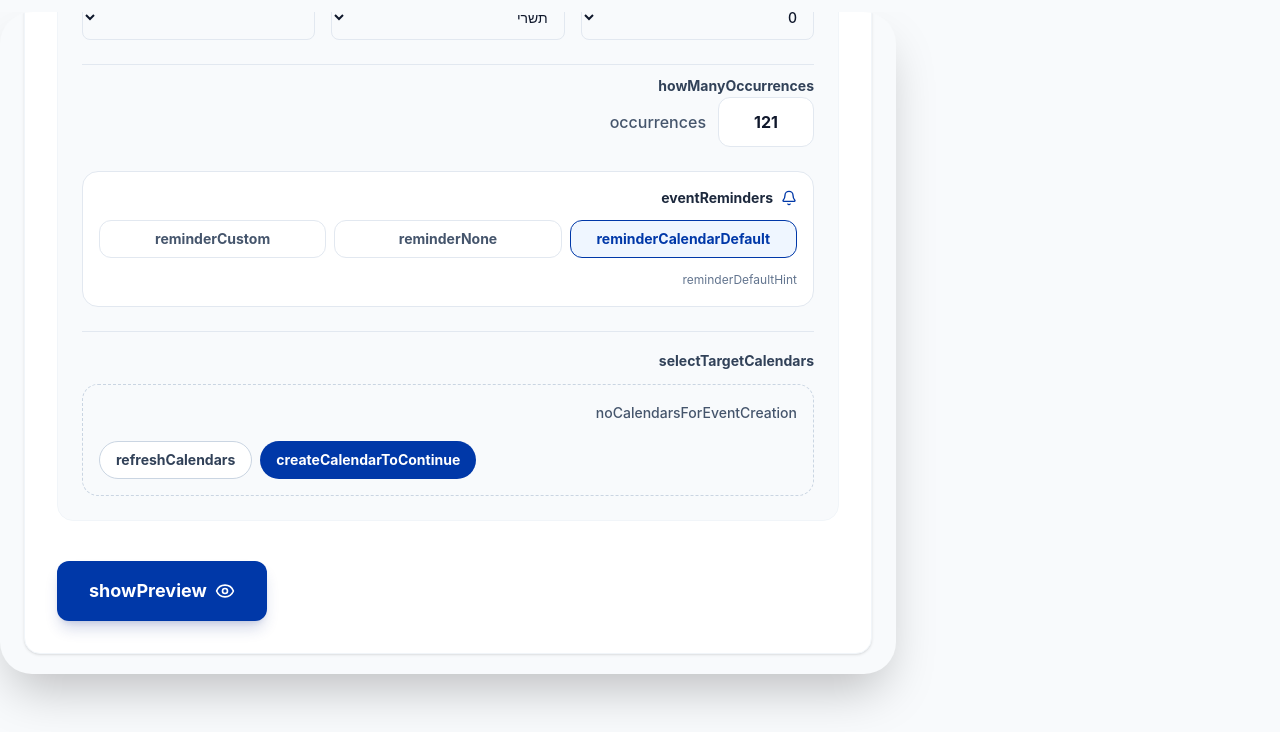
it: AddEvent Component › should mark the event title field invalid when preview is requested without a title
(page scrolled)
Click the button "showPreview". click: (162, 591)
box: top-left (57, 561), bottom-right (267, 621)
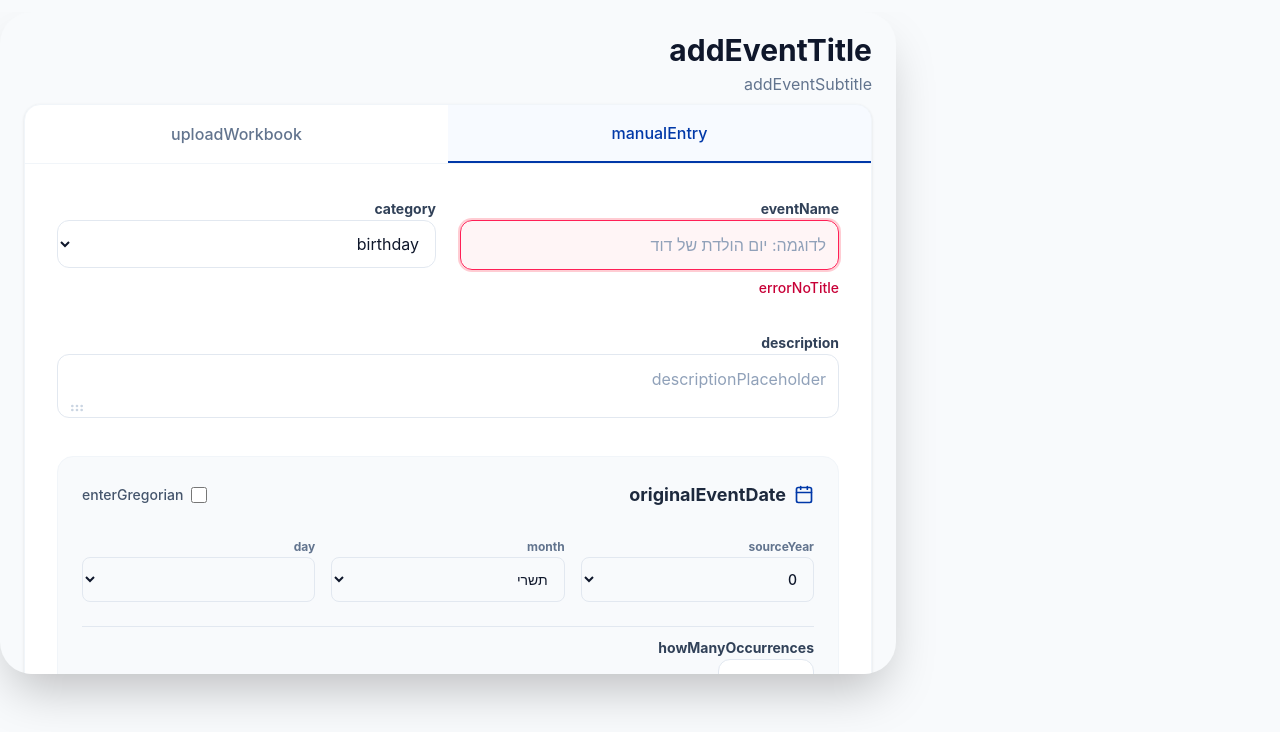
Now the text "errorNoTitle" is shown, box top-left (759, 279), bottom-right (839, 296)
Now the button "Preview" is gone
